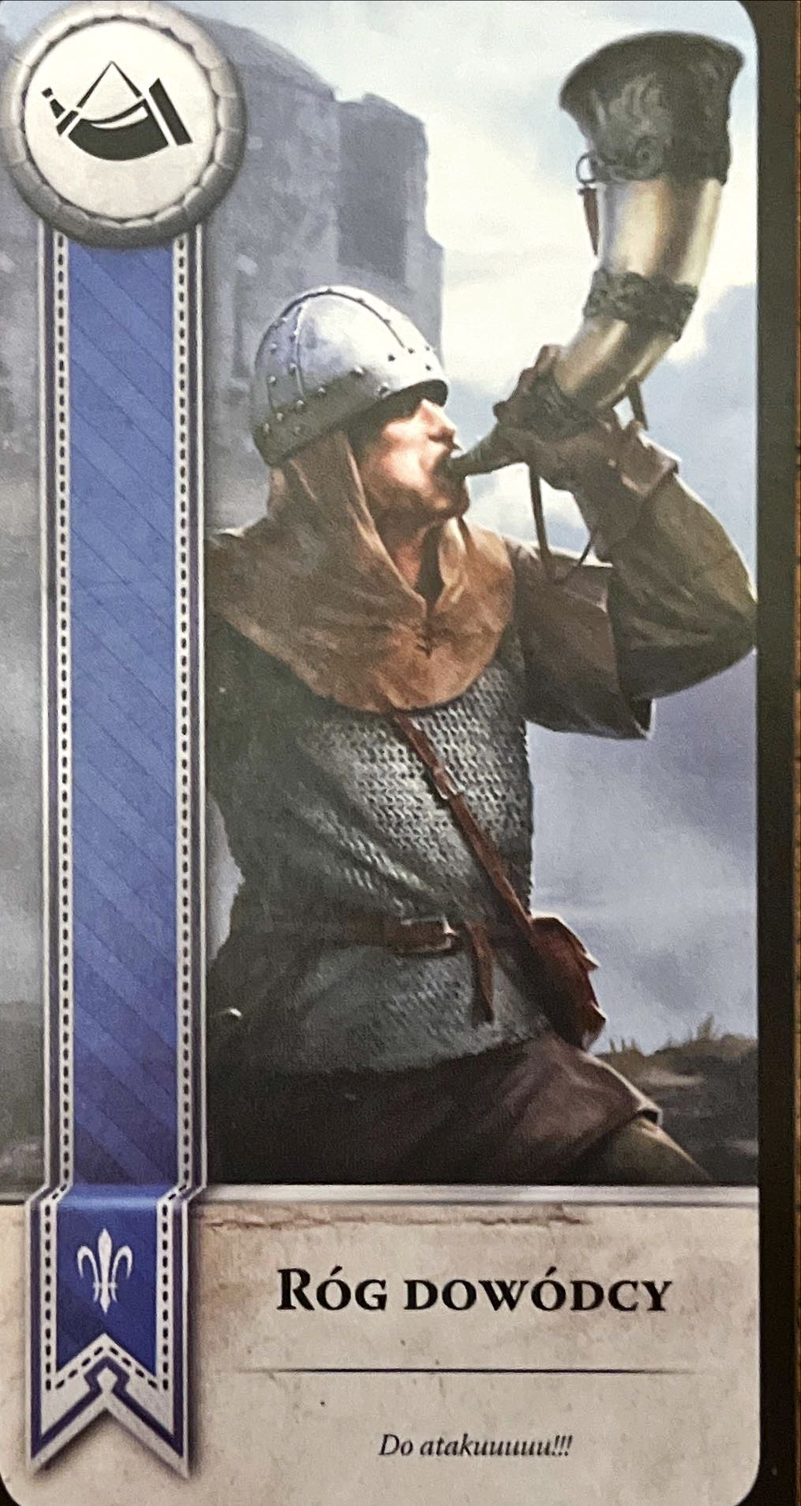rog: (0, 0, 249, 252)
